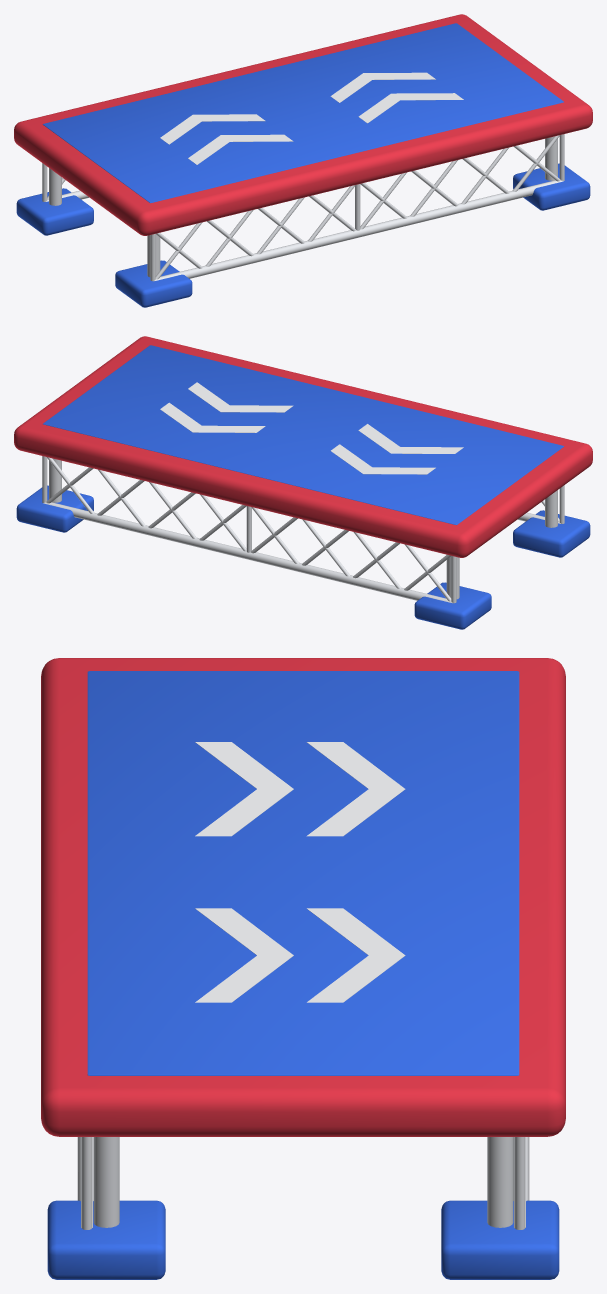
The model's file is SD_Platform_8x4.fbx.
The picture shows the model from 3 angles, top to bottom: view 1: azimuth 30°, elevation 25°; view 2: azimuth 150°, elevation 25°; view 3: azimuth 270°, elevation 25°; orthographic projection. The views are drawn at different scales.
Visible parts, largest first — view 1: Platform_8x4; view 2: Platform_8x4; view 3: Platform_8x4.
Boxes of the visible parts, box(x1,y1,x2,y2) form: Platform_8x4: box(14, 14, 592, 307); Platform_8x4: box(14, 336, 592, 629); Platform_8x4: box(41, 658, 565, 1279).
Bounding box in the file's own units: 8 × 1.61 × 4.
